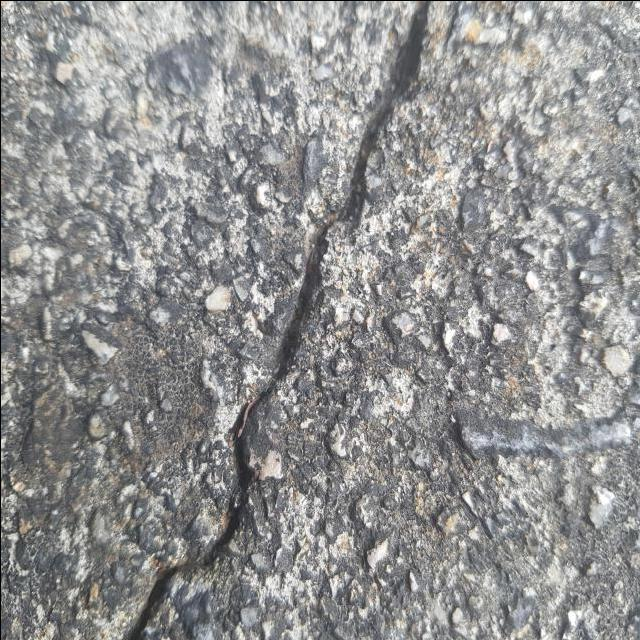SurfaceCrack: (74, 3, 549, 638)
